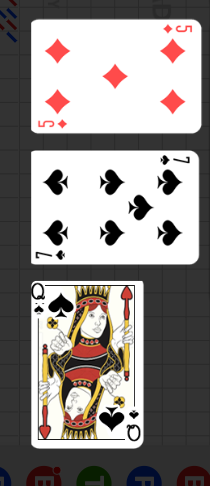7S: (34, 248, 67, 261)
9D: (36, 118, 69, 130)
9S: (126, 407, 143, 444)
